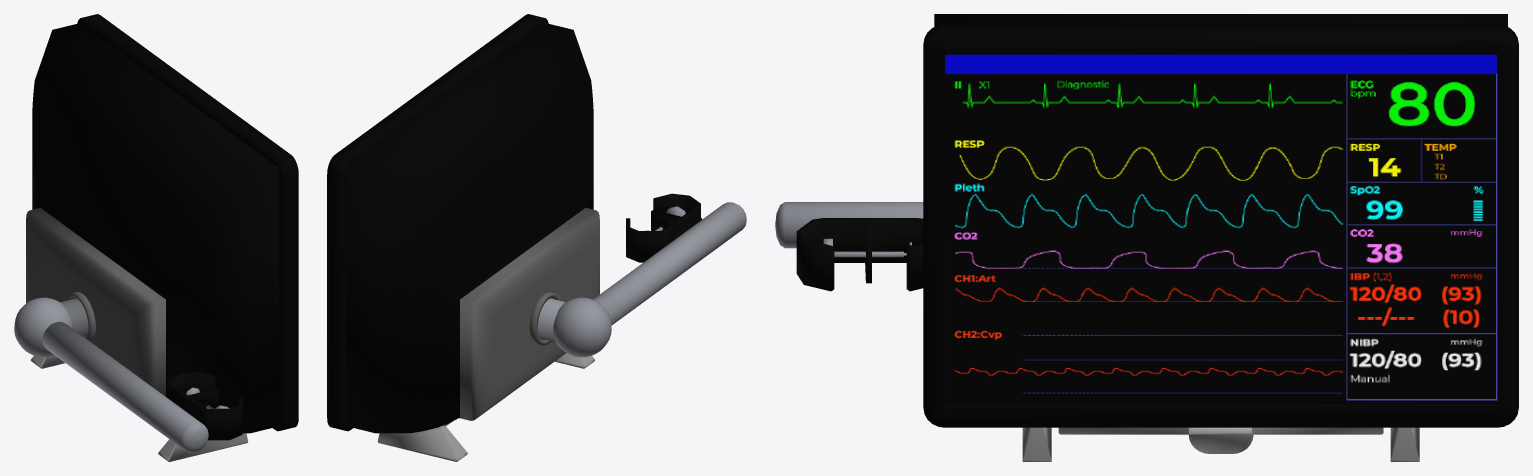
The model's file is vital_signs_monitor.fbx.
3 views of the same model, side by side, from view 1: azimuth 30°, elevation 25°; view 2: azimuth 150°, elevation 25°; view 3: azimuth 270°, elevation 25° (orthographic). The views are drawn at different scales.
Visible parts, largest first — view 1: Monitori.001, Reunat.001, KiinnitinVarsi.001, Kiinnitin.002, VarsiRunko.001; view 2: Monitori.001, Reunat.001, KiinnitinVarsi.001, Kiinnitin.002, VarsiRunko.001; view 3: Screen.001, Reunat.001, Monitori.001, Kiinnitin.002, KiinnitinVarsi.001.
Boxes of the visible parts, <box> form: Monitori.001: <box>26,23,279,461</box>; Reunat.001: <box>77,14,298,431</box>; KiinnitinVarsi.001: <box>14,297,208,452</box>; Kiinnitin.002: <box>166,371,242,440</box>; VarsiRunko.001: <box>60,292,95,342</box>; Monitori.001: <box>346,23,599,461</box>; Reunat.001: <box>327,14,548,431</box>; KiinnitinVarsi.001: <box>553,202,746,357</box>; Kiinnitin.002: <box>626,193,702,262</box>; VarsiRunko.001: <box>530,292,565,345</box>; Screen.001: <box>945,54,1497,405</box>; Reunat.001: <box>923,24,1518,427</box>; Monitori.001: <box>934,14,1507,461</box>; Kiinnitin.002: <box>796,218,923,291</box>; KiinnitinVarsi.001: <box>775,202,923,248</box>.
Size of the model in its own units: 27.4 by 44.72 by 68.7.
